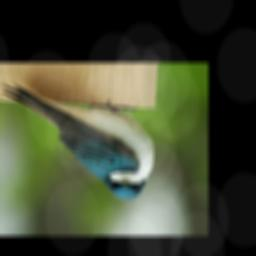Swallow: (0, 83, 156, 200)
